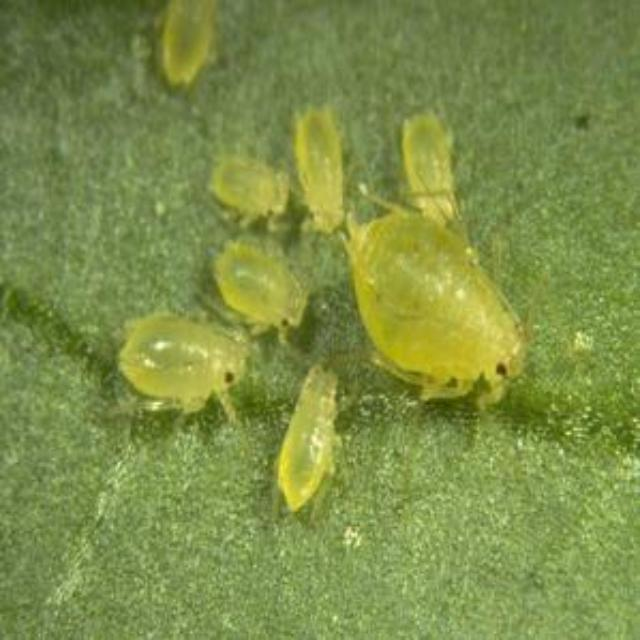Green peach aphid: (318, 212, 548, 412), (76, 292, 248, 426), (370, 99, 480, 243), (172, 231, 312, 337), (258, 382, 359, 516), (271, 102, 367, 242), (122, 0, 246, 96), (185, 138, 292, 232)
